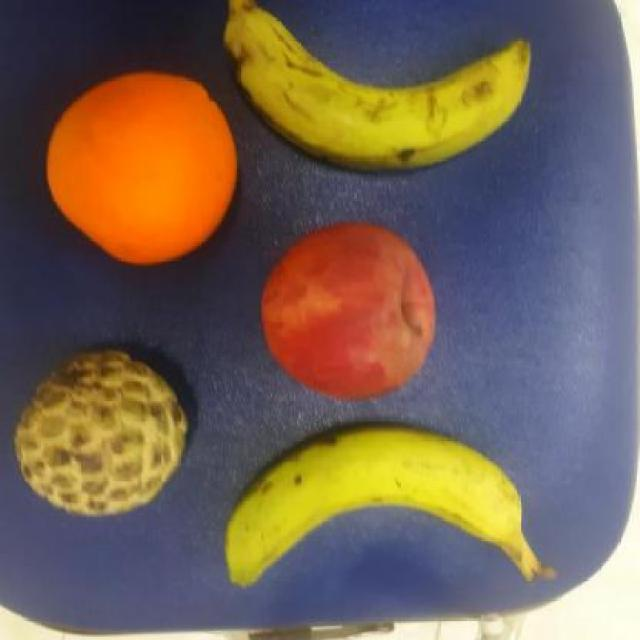apple: (260, 220, 438, 403)
banana: (220, 1, 534, 181), (224, 422, 544, 590)
oren: (39, 67, 247, 268)
sugar apple: (12, 346, 196, 522)
